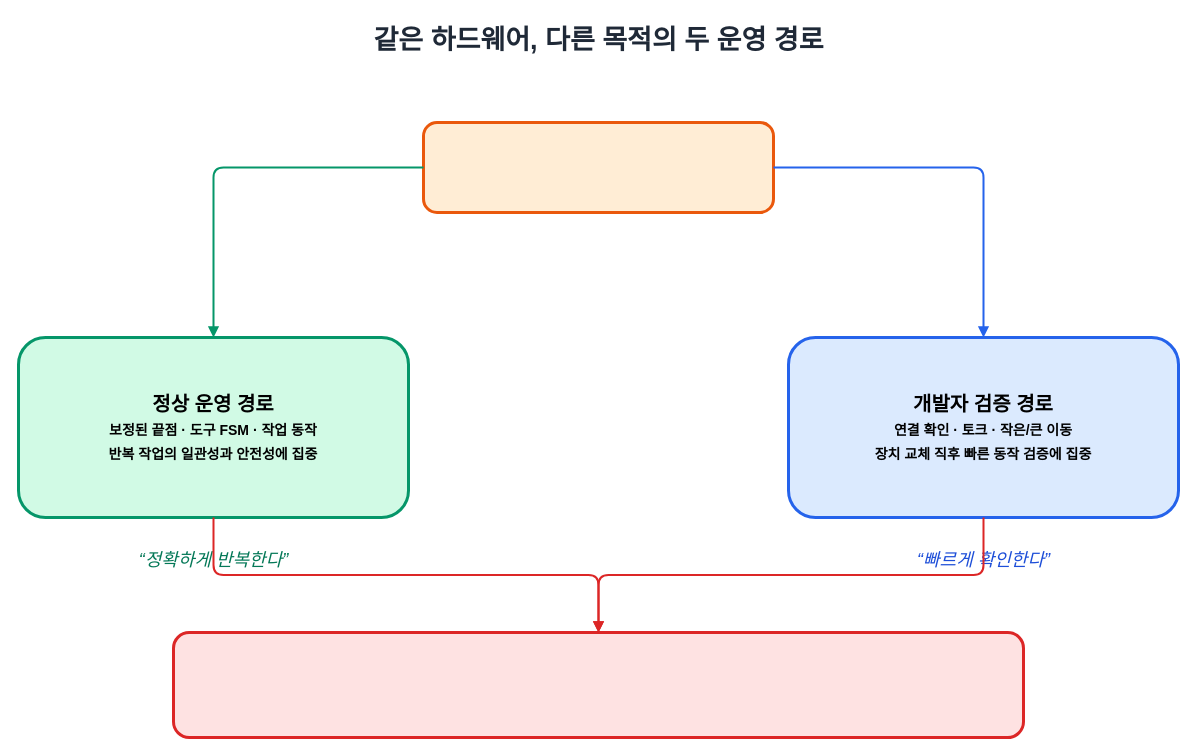
This 1197x756 diagram has some shape labels left out. The box of each missing label's shape, as (x1, y1, x2, y2) in pixels:
공통 최소 안전 체계 비상정지 · 통신 단절 · 하드웨어 오류 · 분리 상태 · 안전 범위: (172, 630, 1024, 738)
교체 가능한 엔드이펙터: (422, 120, 774, 214)
